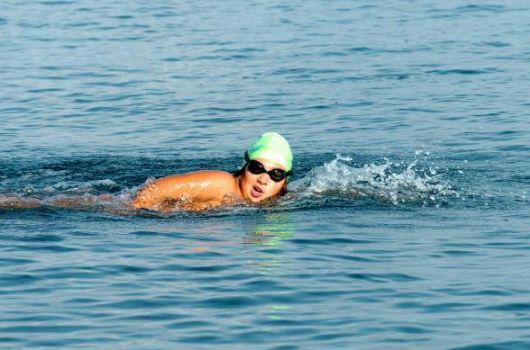swimmer: (0, 130, 294, 218)
